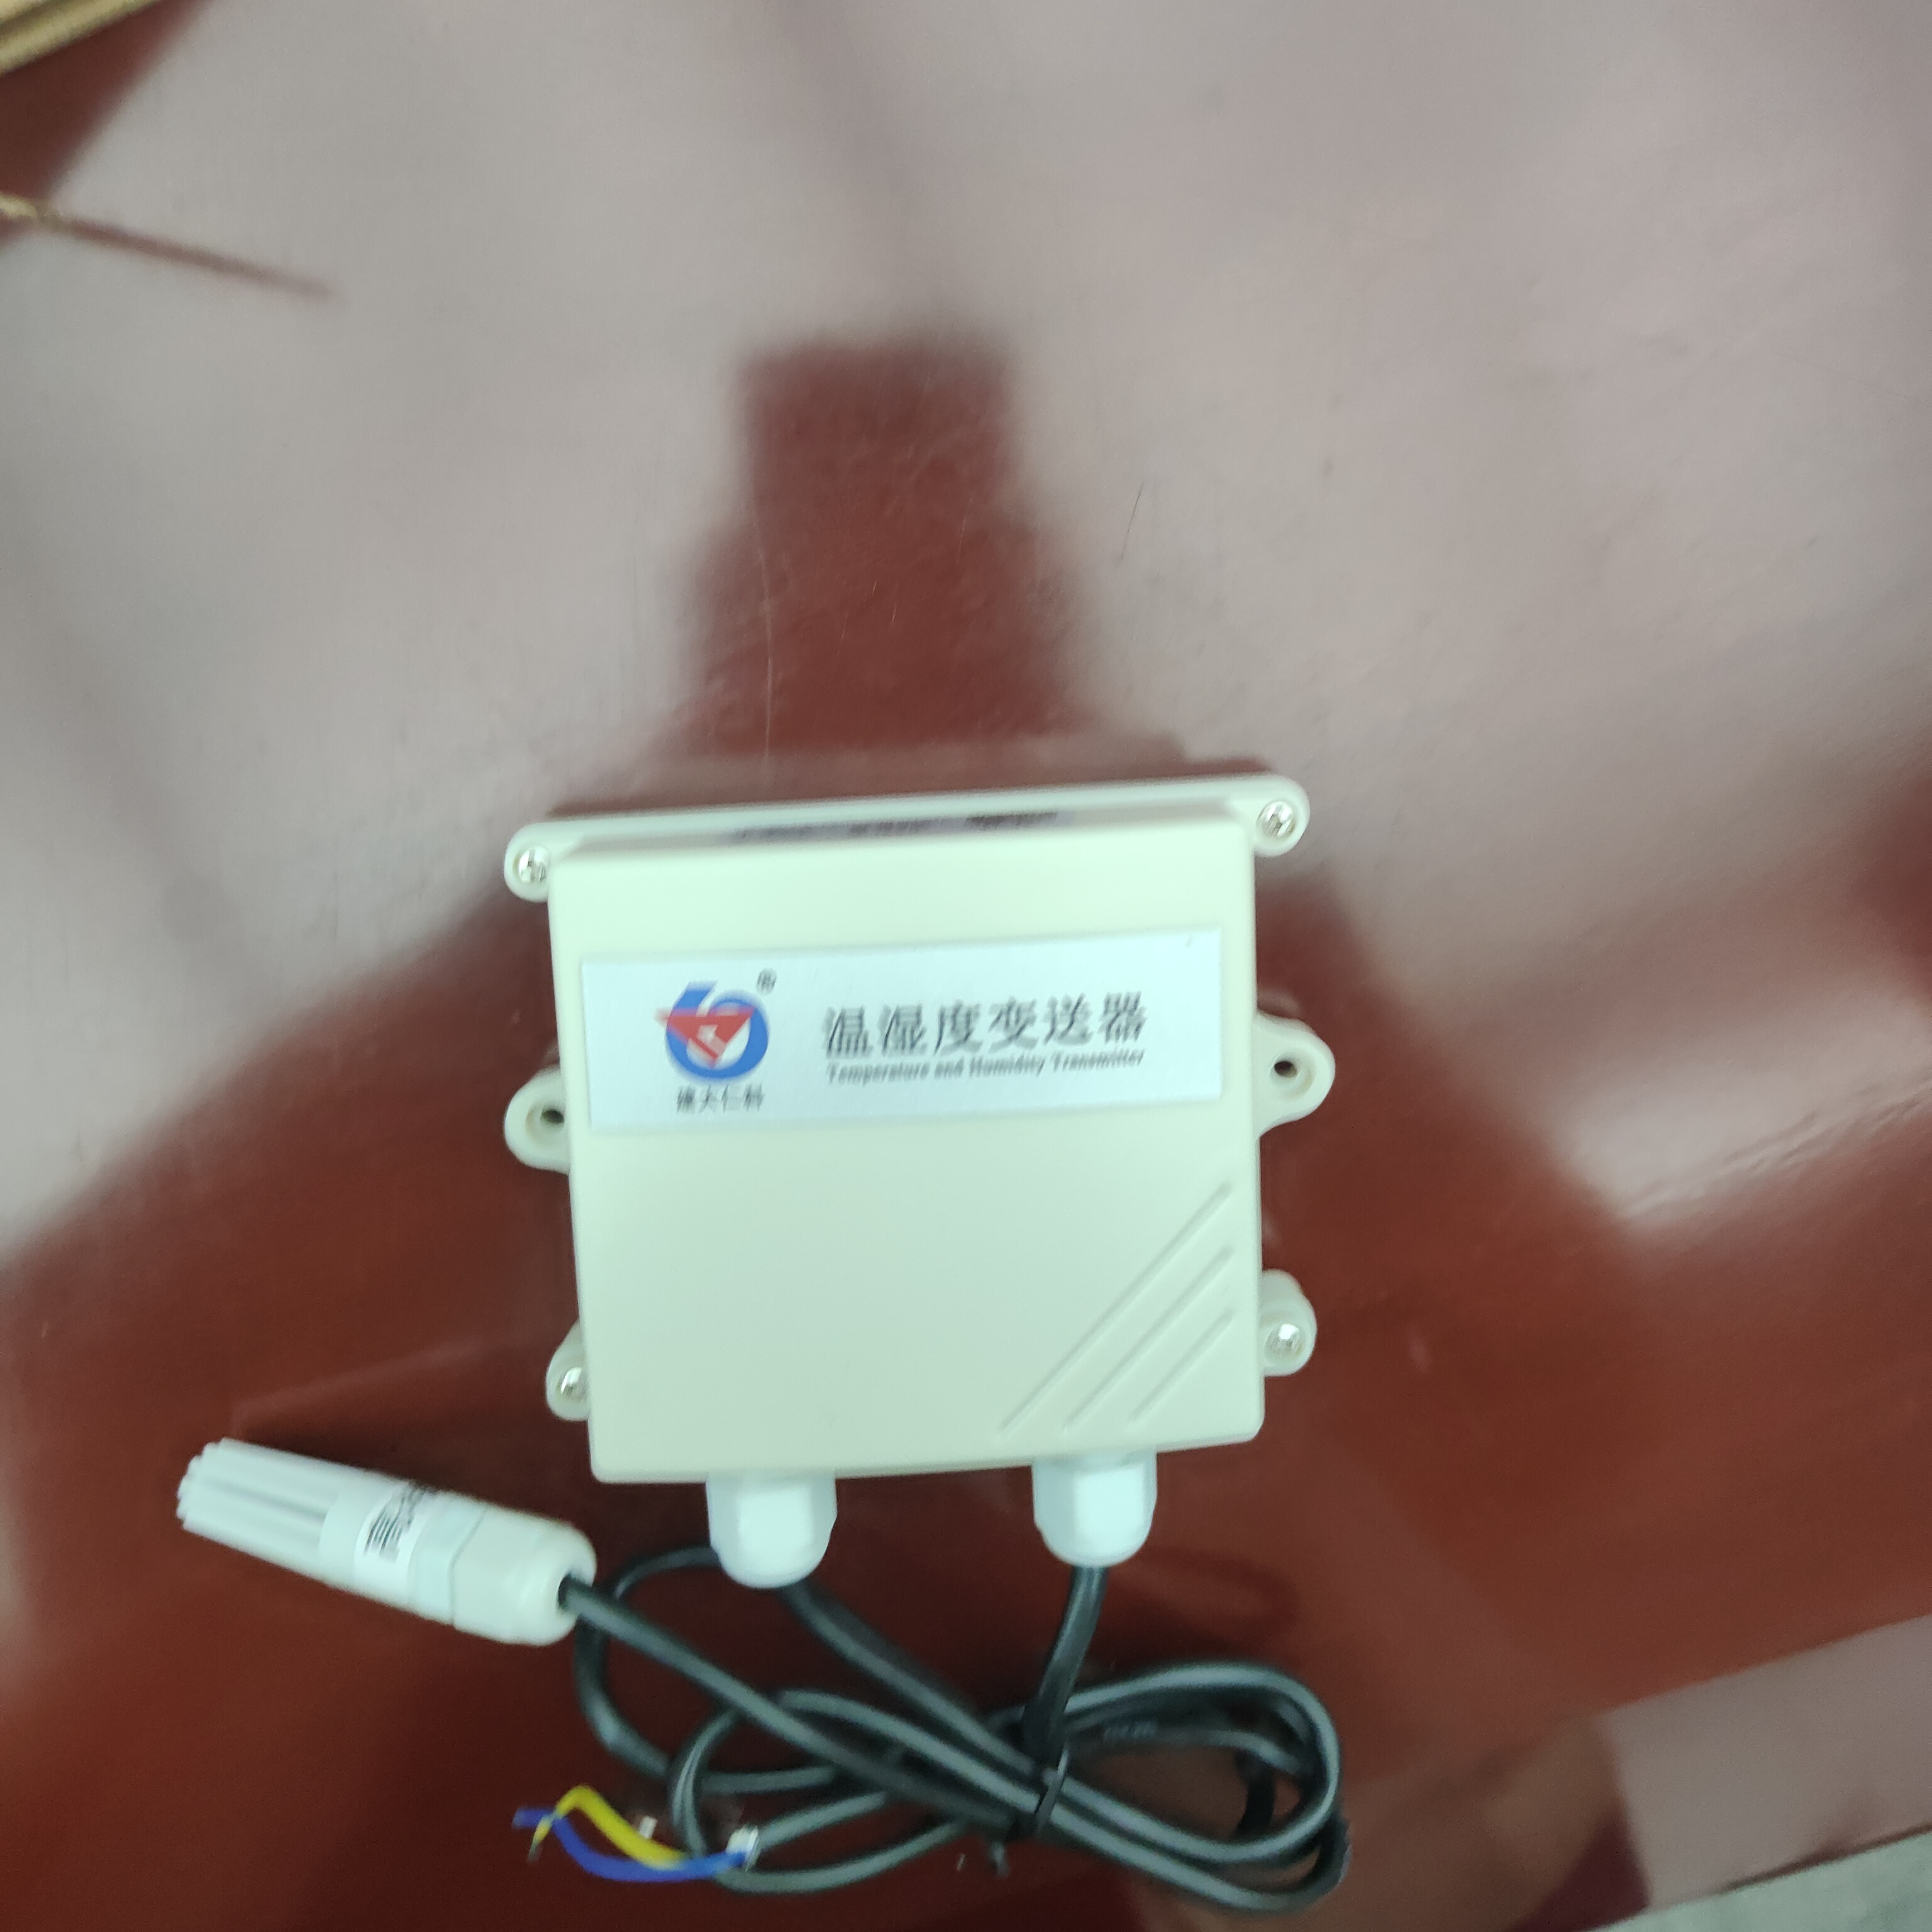wsdbsq: (474, 724, 1384, 1606)
